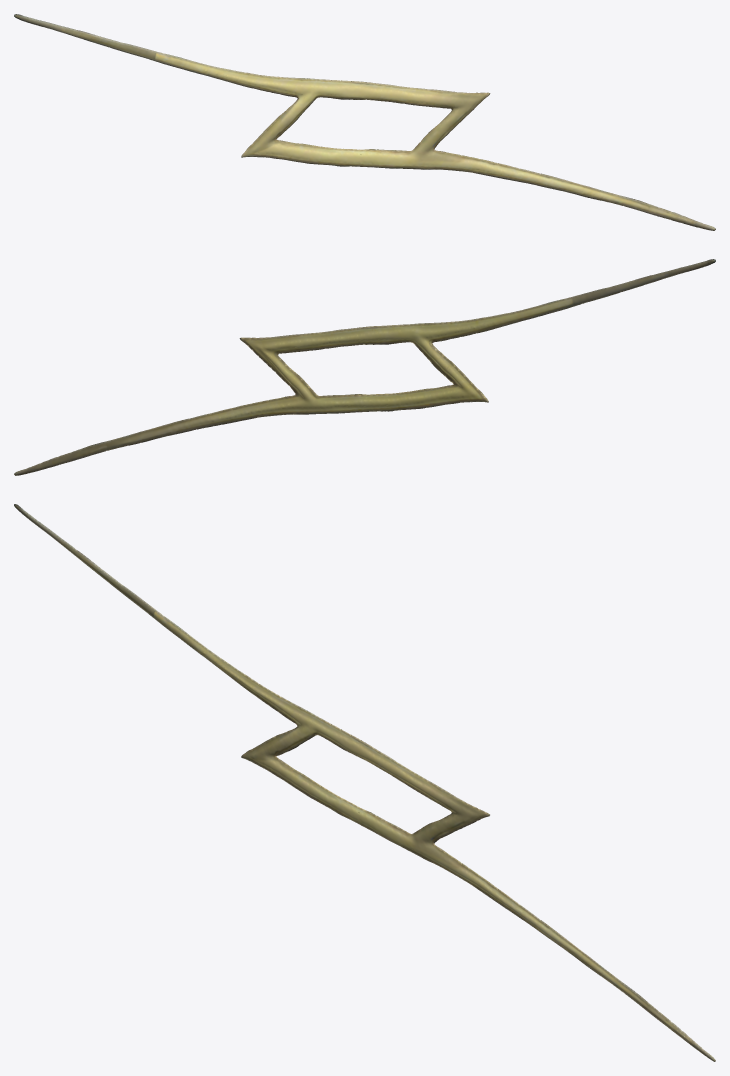
The model's file is LIGHTNING.fbx.
The picture shows the model from 3 angles, top to bottom: view 1: azimuth 30°, elevation 25°; view 2: azimuth 150°, elevation 25°; view 3: azimuth 330°, elevation 25°; orthographic projection.
Parts seen in each view (by area): view 1: Mesh1_Mesh1.017; view 2: Mesh1_Mesh1.017; view 3: Mesh1_Mesh1.017.
Part boxes in pixels (left/top/right/bottom): Mesh1_Mesh1.017: left=14, top=14, right=715, bottom=230; Mesh1_Mesh1.017: left=14, top=259, right=715, bottom=475; Mesh1_Mesh1.017: left=14, top=504, right=715, bottom=1061.
Size of the model in its own units: 201 by 106 by 1.34.
1 material, 1 textured.
